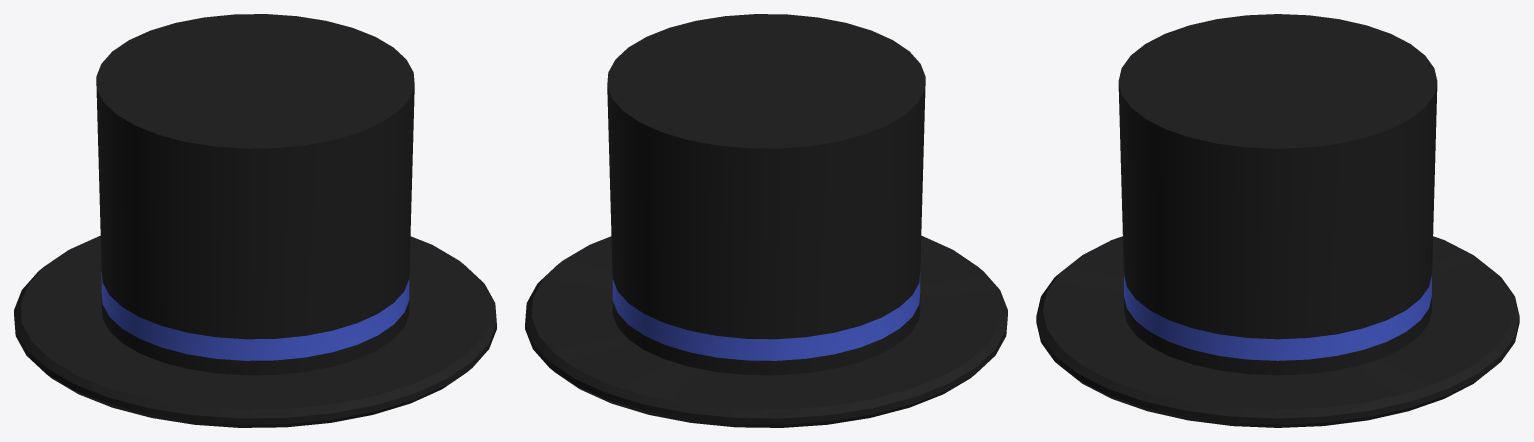
The model's file is topHat.fbx.
The picture shows the model from 3 angles, left to right: view 1: azimuth 30°, elevation 25°; view 2: azimuth 150°, elevation 25°; view 3: azimuth 270°, elevation 25°; orthographic projection.
Visible parts, largest first — view 1: HopHat; view 2: HopHat; view 3: HopHat.
Part boxes in pixels (<box>): HopHat: <box>14,14,496,427</box>; HopHat: <box>525,14,1007,427</box>; HopHat: <box>1036,14,1519,427</box>.
Bounding box in the file's own units: 49.3 × 49.3 × 27.82.
